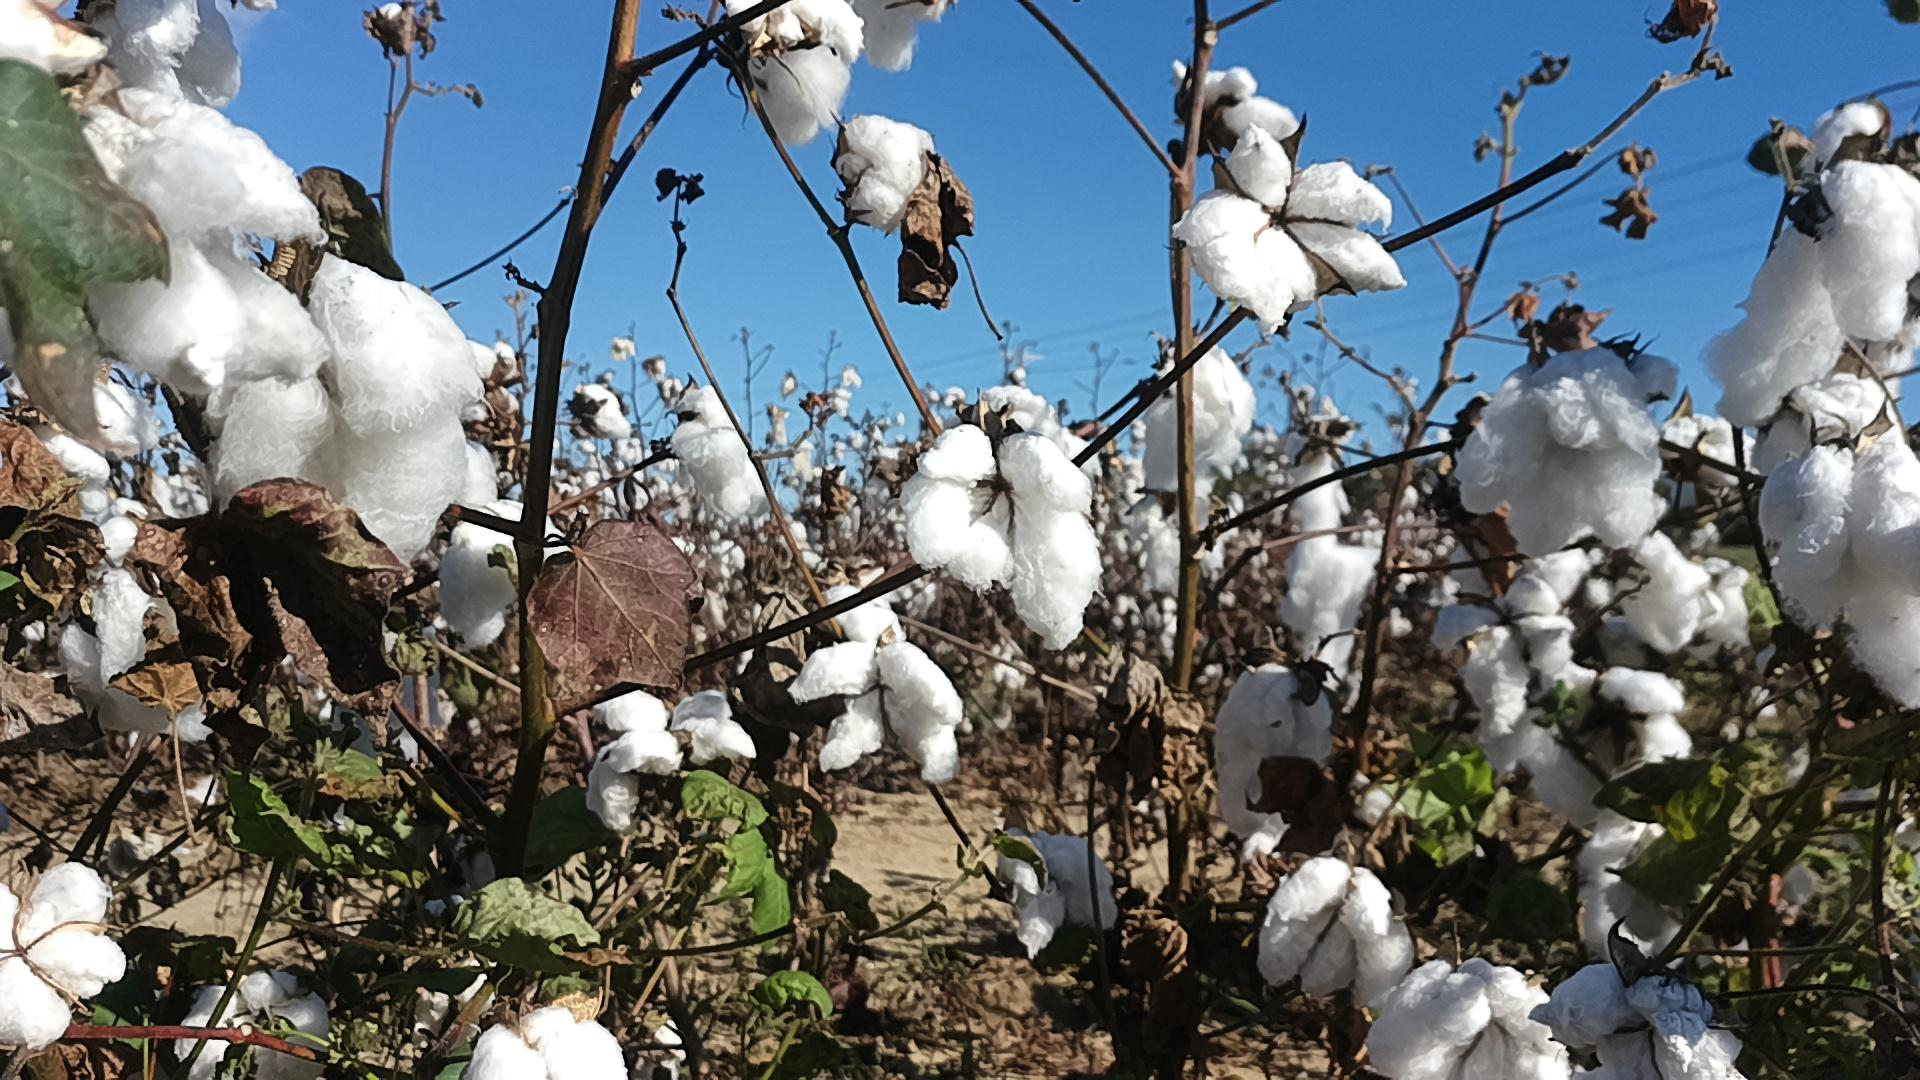cotton_ready: (212, 261, 480, 563), (73, 88, 328, 389), (1704, 161, 1920, 429), (1178, 123, 1406, 345), (902, 423, 1098, 653), (1759, 435, 1920, 713), (24, 516, 207, 742), (1458, 353, 1662, 553), (790, 588, 965, 781), (1526, 666, 1696, 820), (1364, 957, 1573, 1080), (1530, 963, 1746, 1080), (582, 686, 756, 831), (0, 862, 128, 1051), (8, 365, 158, 524), (1255, 856, 1415, 1005), (1432, 574, 1576, 738), (1213, 663, 1332, 839), (728, 0, 864, 145), (442, 501, 574, 647), (178, 965, 335, 1080), (1143, 335, 1258, 491), (1580, 815, 1693, 963), (1000, 831, 1121, 963), (98, 0, 243, 103), (1751, 373, 1888, 475), (675, 385, 770, 521), (1282, 538, 1375, 675), (832, 116, 940, 231), (1168, 61, 1304, 148), (469, 1006, 628, 1080), (1618, 531, 1705, 654), (1279, 404, 1356, 539), (1656, 413, 1755, 513), (0, 0, 108, 75), (852, 0, 948, 69), (1696, 555, 1753, 649)
